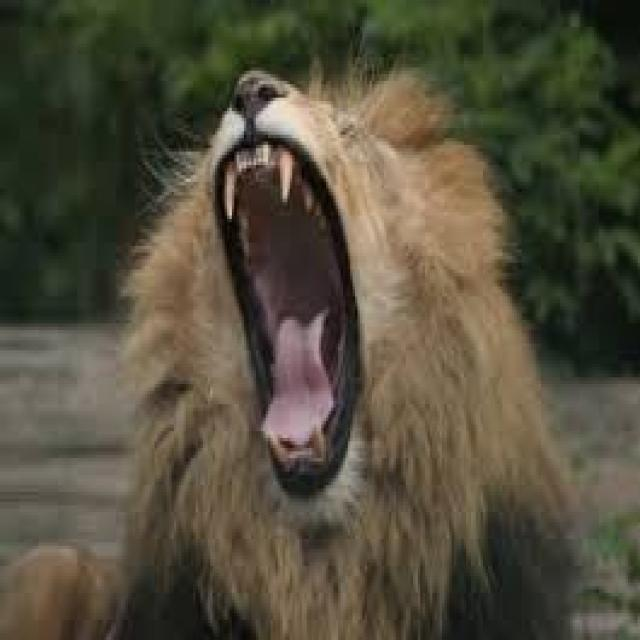Lion: (5, 62, 578, 637)
